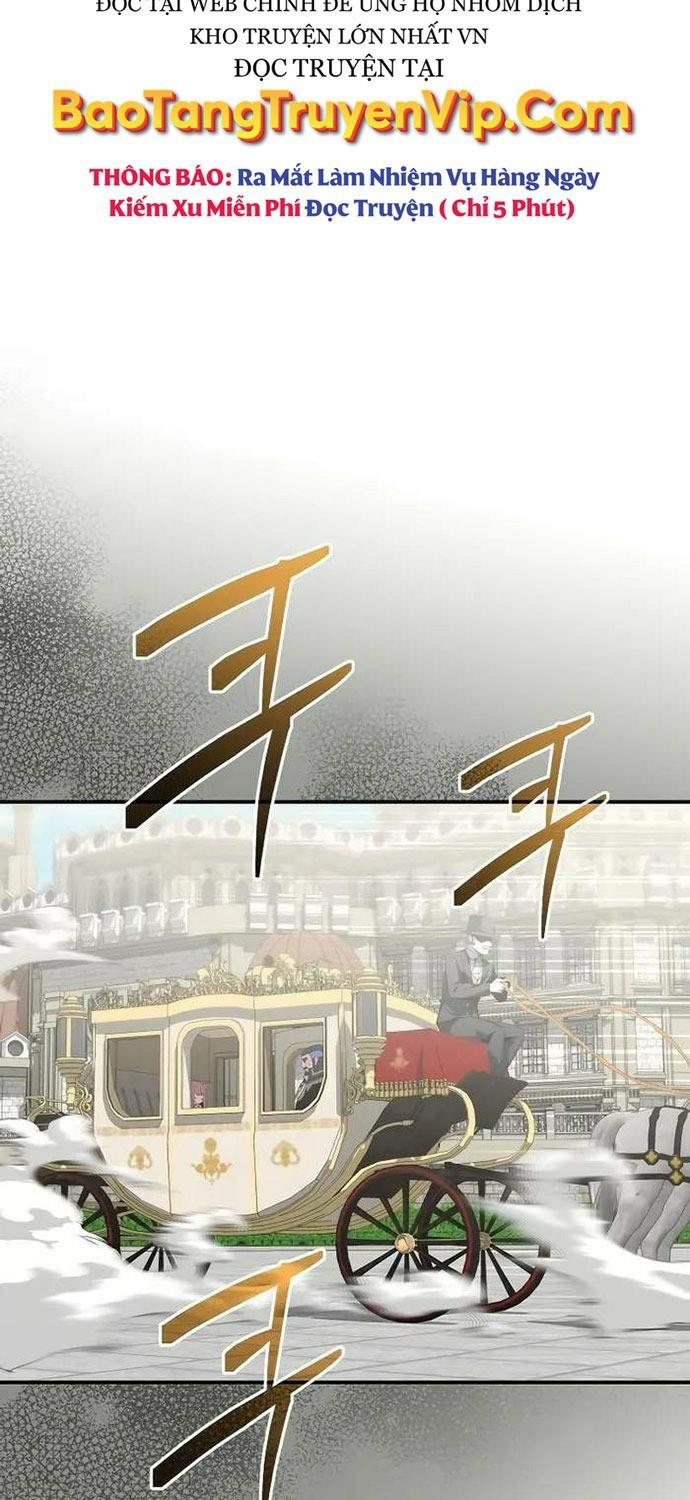quangcao: (44, 0, 646, 244)
